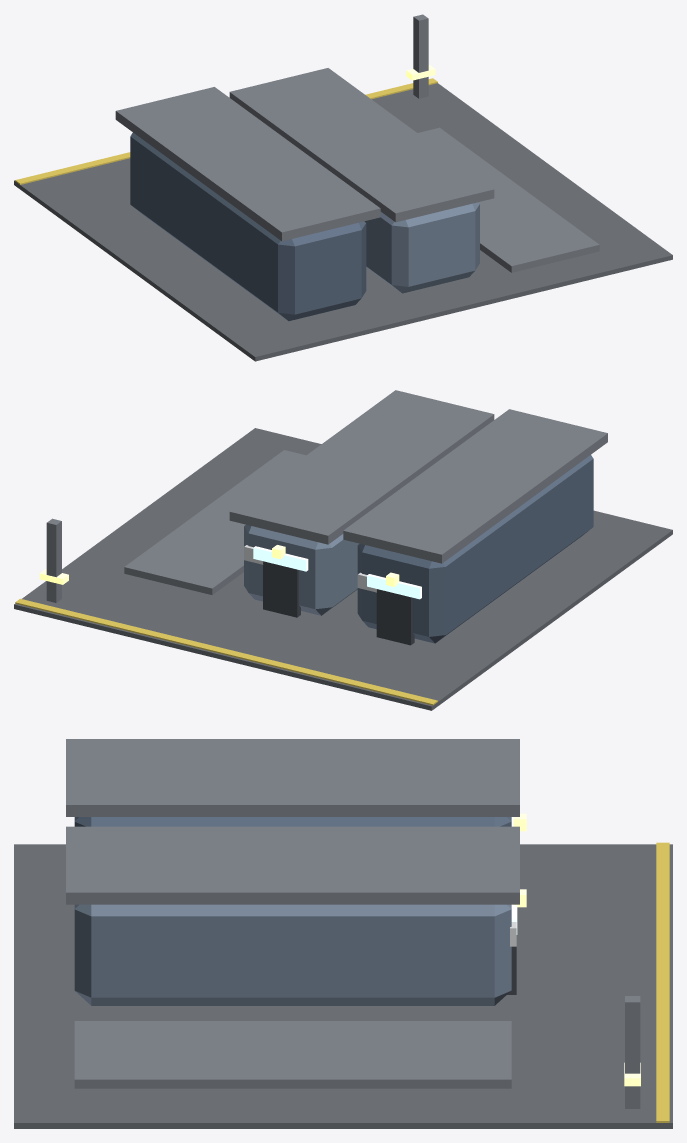
File: zone_low_4_t1.glb
3 renders of one model, top to bottom at view 1: azimuth 30°, elevation 25°; view 2: azimuth 150°, elevation 25°; view 3: azimuth 270°, elevation 25°, orthographic. The views are drawn at different scales.
Parts seen in each view (by area): view 1: zone_low_4_t1, detail; view 2: zone_low_4_t1, detail; view 3: zone_low_4_t1, detail.
Boxes of the visible parts, x1=… form: zone_low_4_t1: x1=14, y1=68, x2=672, y2=361; detail: x1=15, y1=14, x2=437, y2=184; zone_low_4_t1: x1=14, y1=390, x2=672, y2=710; detail: x1=15, y1=518, x2=437, y2=705; zone_low_4_t1: x1=14, y1=739, x2=672, y2=1128; detail: x1=510, y1=813, x2=669, y2=1122.
Bounding box in the file's own units: 19.6 × 4.66 × 19.6.
